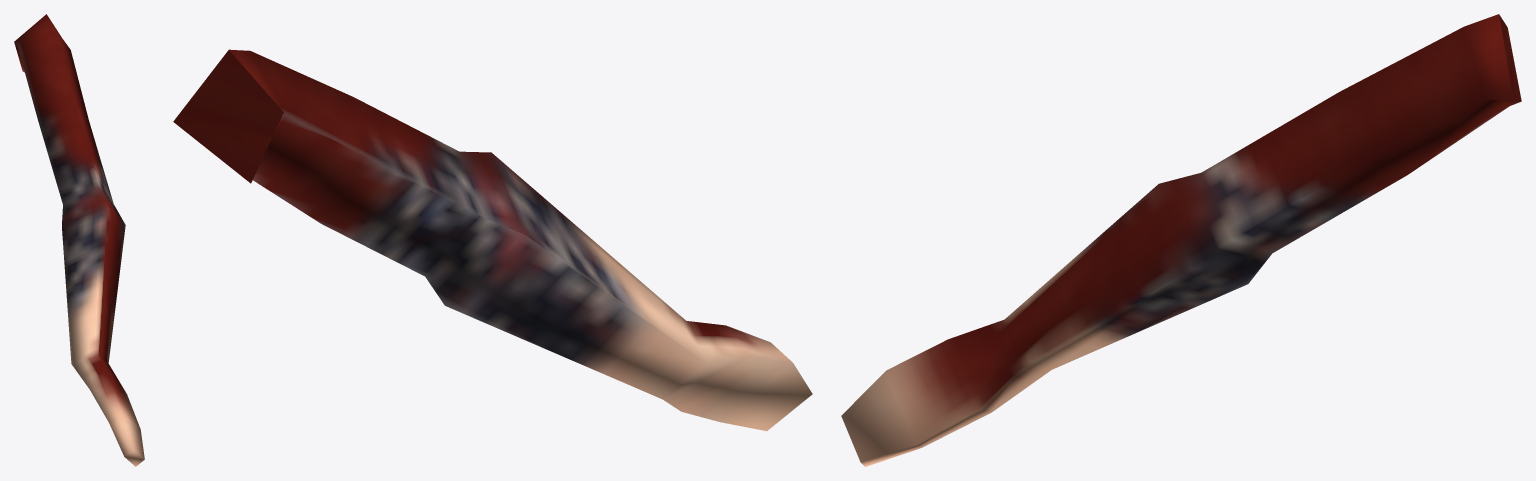
Rendered from Arm1.fbx.
3 renders of one model, left to right at view 1: azimuth 30°, elevation 25°; view 2: azimuth 150°, elevation 25°; view 3: azimuth 270°, elevation 25°, orthographic. The views are drawn at different scales.
Visible parts, largest first — view 1: Cube.065; view 2: Cube.065; view 3: Cube.065.
Part boxes in pixels (bbox=[...]): Cube.065: bbox=[14, 14, 144, 466]; Cube.065: bbox=[173, 49, 812, 431]; Cube.065: bbox=[841, 14, 1521, 466].
Bounding box in the file's own units: 130 × 279 × 325.
